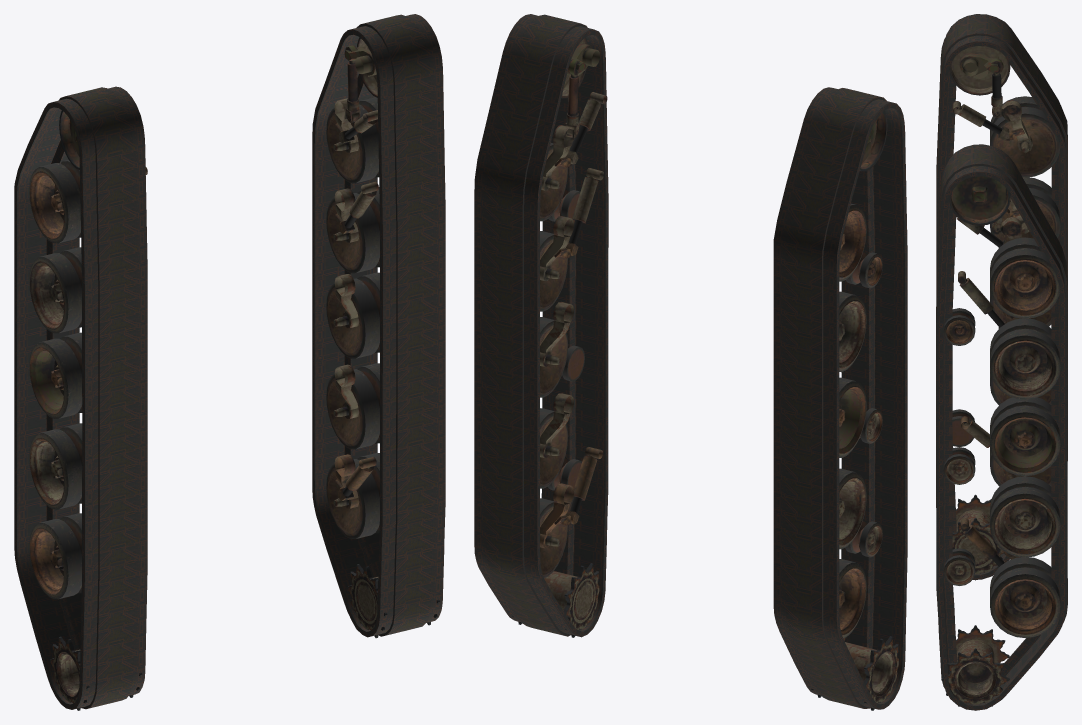
File: Chassis_02.glb
The picture shows the model from 3 angles, left to right: view 1: azimuth 30°, elevation 25°; view 2: azimuth 150°, elevation 25°; view 3: azimuth 270°, elevation 25°; orthographic projection. The views are drawn at different scales.
Parts seen in each view (by area): view 1: set_0_group_0, set_1_group_0, set_3_group_0, set_2_group_0; view 2: set_0_group_0, set_1_group_0, set_3_group_0, set_2_group_0; view 3: set_3_group_0, set_1_group_0, set_2_group_0, set_0_group_0.
Part boxes in pixels (x1,y1,x2,y2): set_0_group_0: (14, 86, 147, 709); set_1_group_0: (312, 14, 445, 637); set_3_group_0: (326, 37, 439, 638); set_2_group_0: (29, 110, 147, 710); set_0_group_0: (773, 87, 907, 709); set_1_group_0: (474, 14, 608, 637); set_3_group_0: (512, 37, 607, 637); set_2_group_0: (811, 111, 898, 710); set_3_group_0: (941, 176, 1060, 706); set_1_group_0: (936, 144, 1067, 710); set_2_group_0: (949, 46, 1060, 580); set_0_group_0: (936, 14, 1067, 579).
Size of the model in its own units: 3.5 by 5.62 by 1.24.
Materials: 4 (4 with a texture image).
